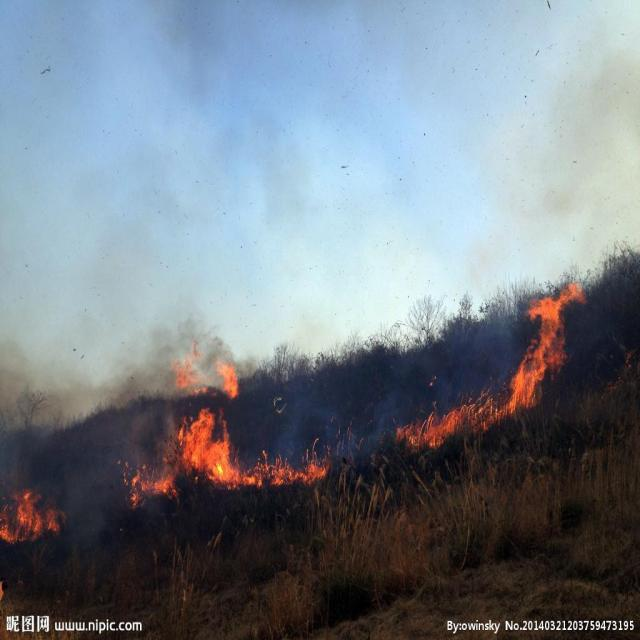fire: (117, 331, 339, 514), (501, 283, 572, 398), (3, 471, 79, 544), (384, 394, 520, 434)
